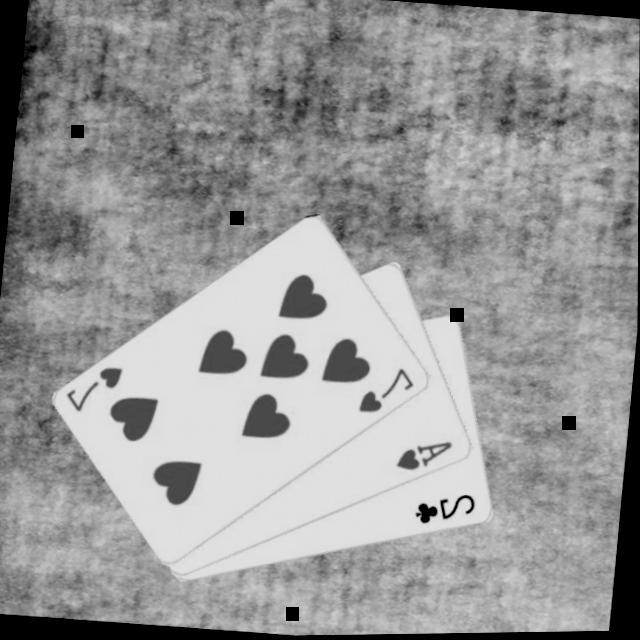2C: (409, 489, 478, 534)
7H: (58, 359, 125, 420), (352, 362, 417, 422)
AH: (391, 434, 454, 480)
